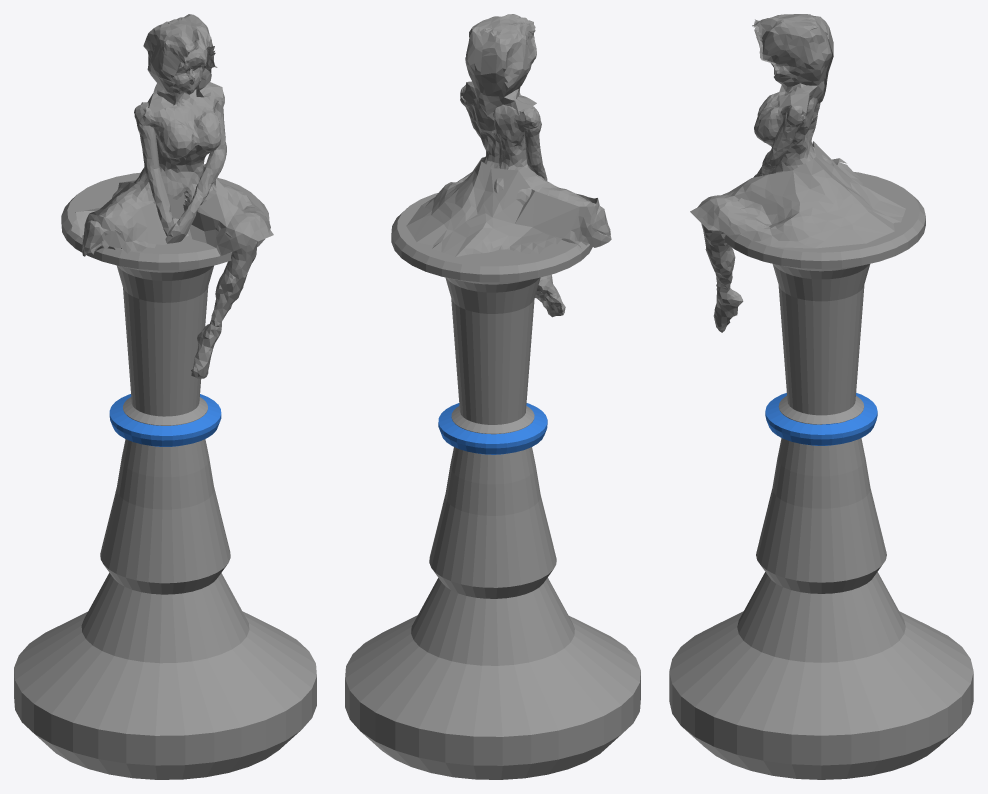
File: StatueOrigin.fbx
The picture shows the model from 3 angles, left to right: view 1: azimuth 30°, elevation 25°; view 2: azimuth 150°, elevation 25°; view 3: azimuth 270°, elevation 25°; orthographic projection. The views are drawn at different scales.
Visible parts, largest first — view 1: base.002, figure.002; view 2: base.002, figure.002; view 3: base.002, figure.002.
Boxes of the visible parts, bbox=[...] form: base.002: bbox=[14, 172, 316, 779]; figure.002: bbox=[71, 14, 273, 378]; base.002: bbox=[345, 193, 640, 779]; figure.002: bbox=[406, 14, 611, 317]; base.002: bbox=[669, 172, 973, 779]; figure.002: bbox=[690, 14, 905, 332].
Bounding box in the file's own units: 494 × 1278 × 494.
